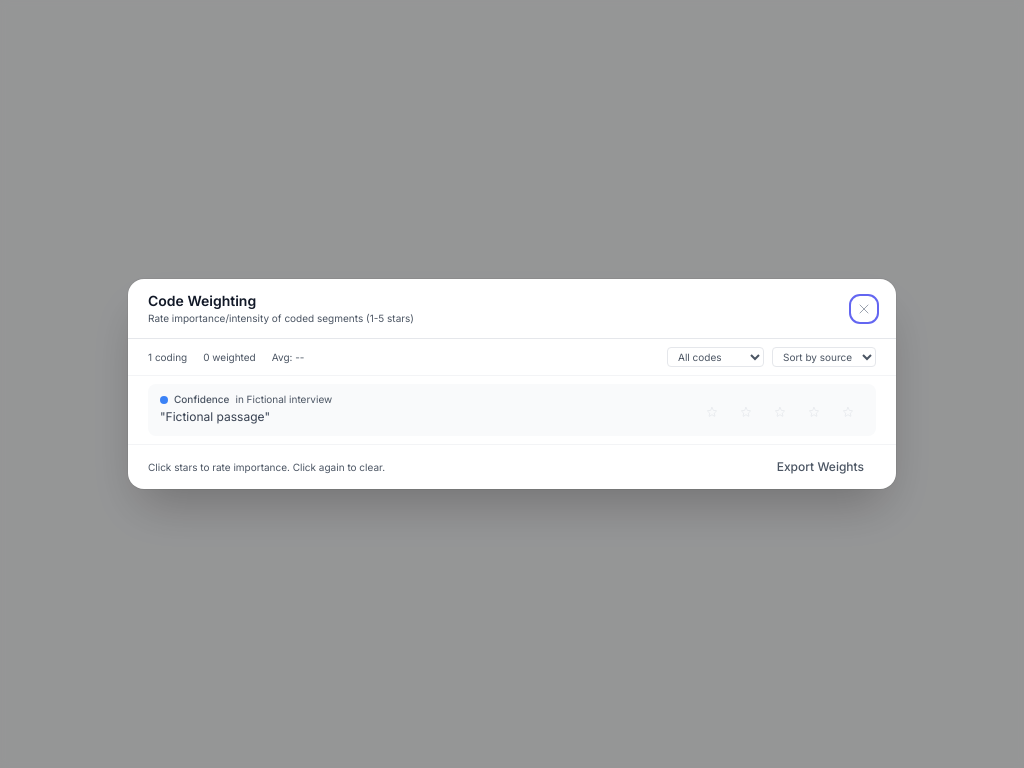
Test: code weighting teaching and recovery › resets an empty filter without claiming saved codings are missing or changing them
Select "Unused code" in the dropdown named "Filter by code" at coordinates (716, 357), box [667, 347, 764, 367]
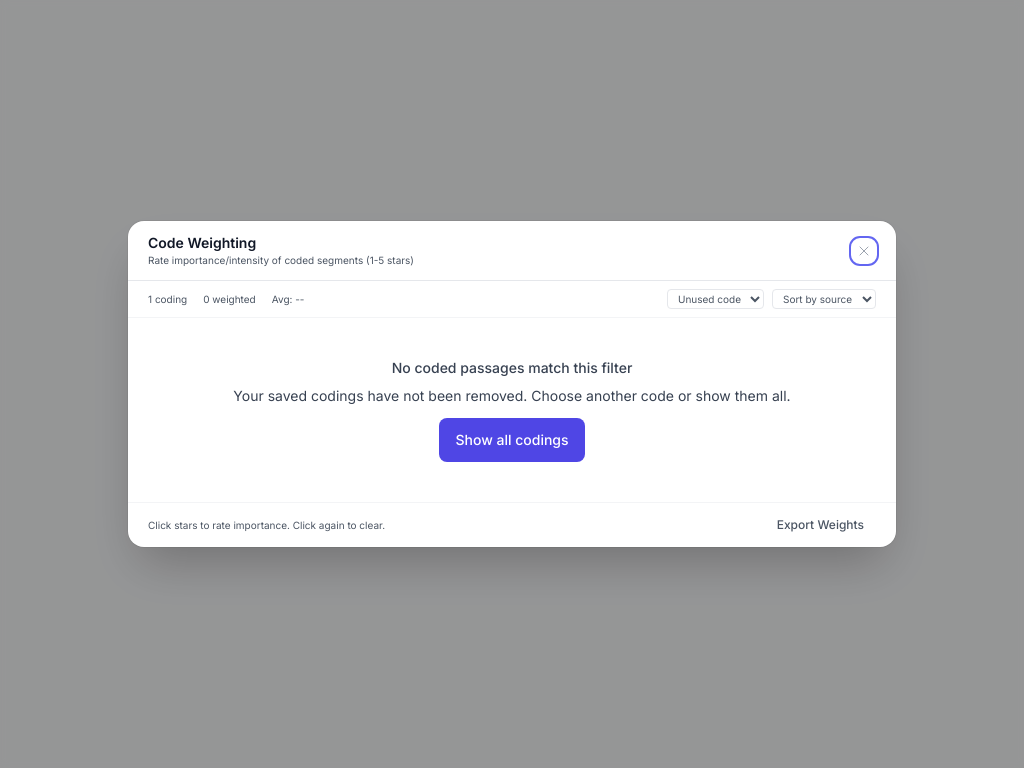
Expected: the text "Your saved codings have not been removed" is shown, [233, 387, 791, 404]
Click the button "Show all codings".
click(512, 440)  # box [439, 418, 584, 462]
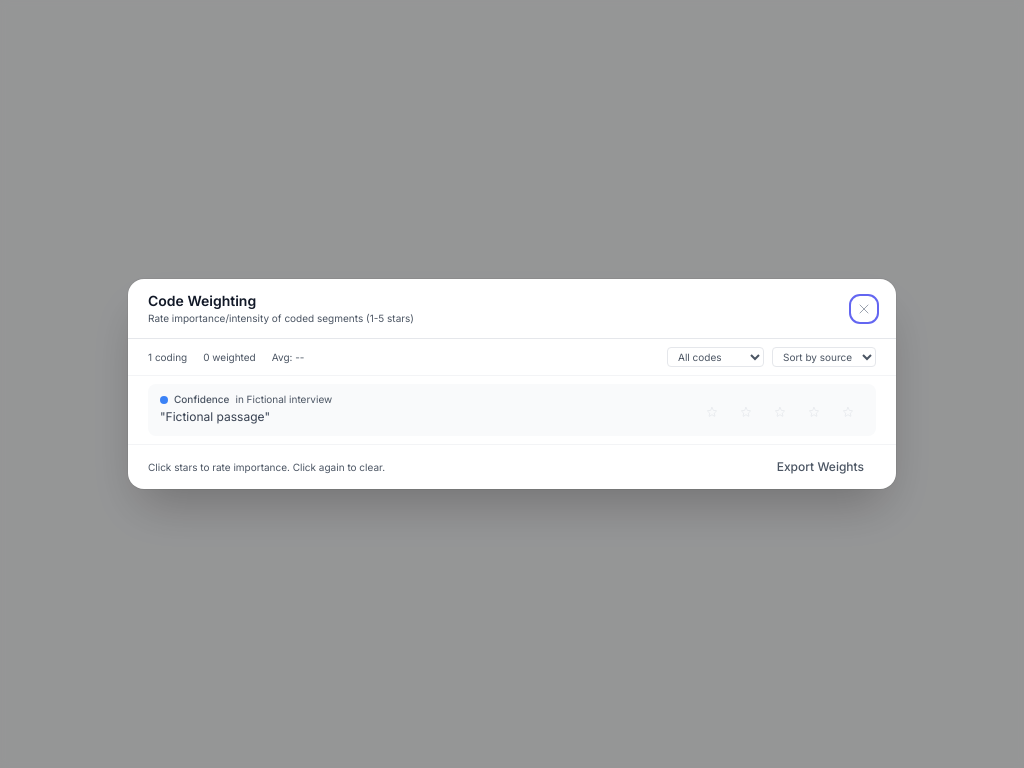
Expected: the text "\"Fictional passage\"" is shown, [160, 409, 270, 424]
